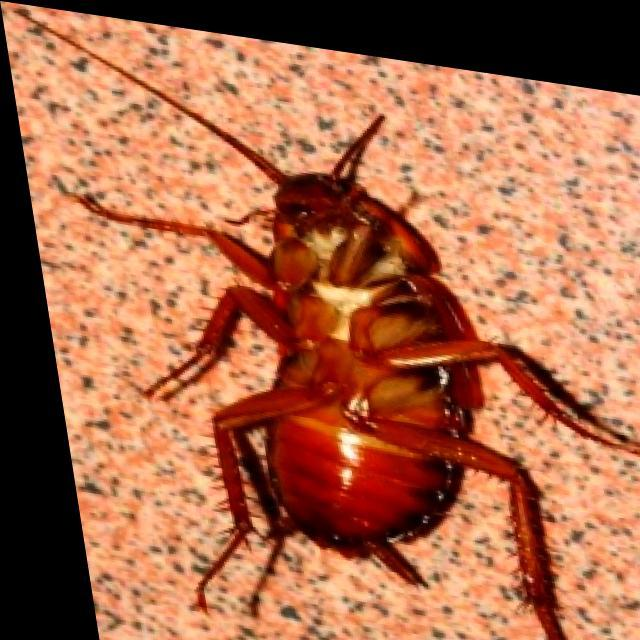cockroach: (46, 74, 636, 635)
